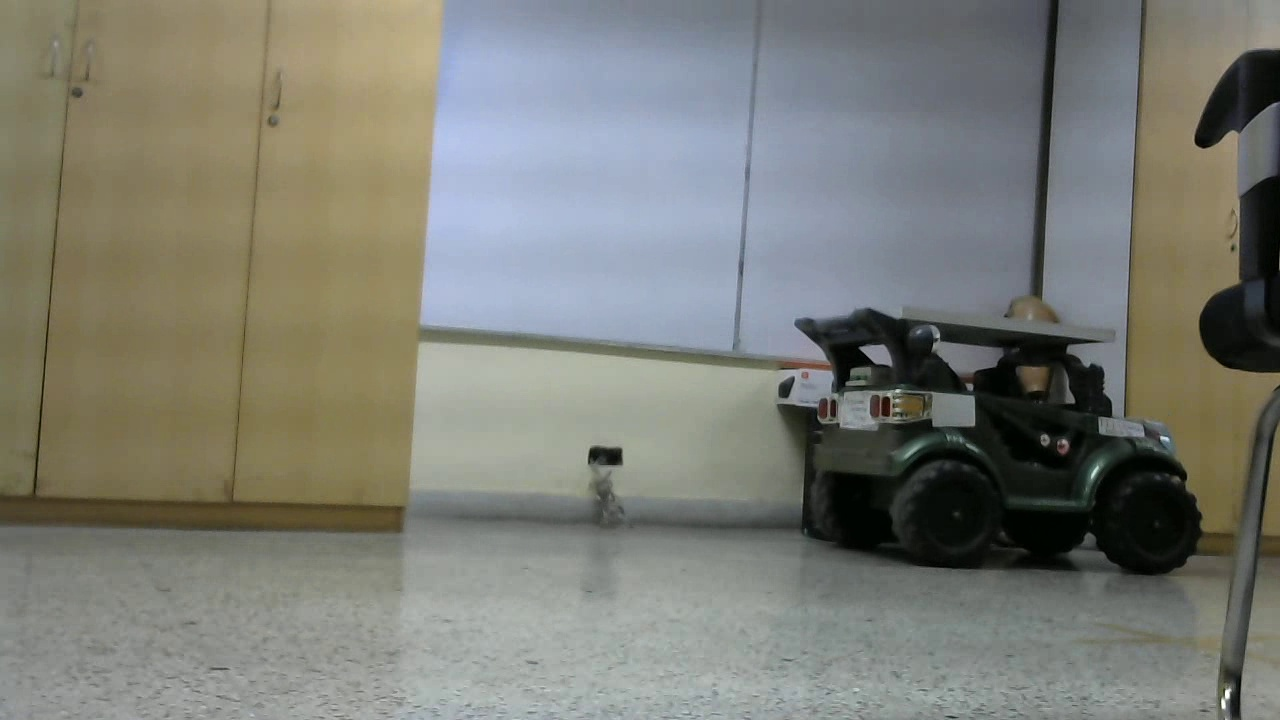chair: (653, 1, 940, 598)
